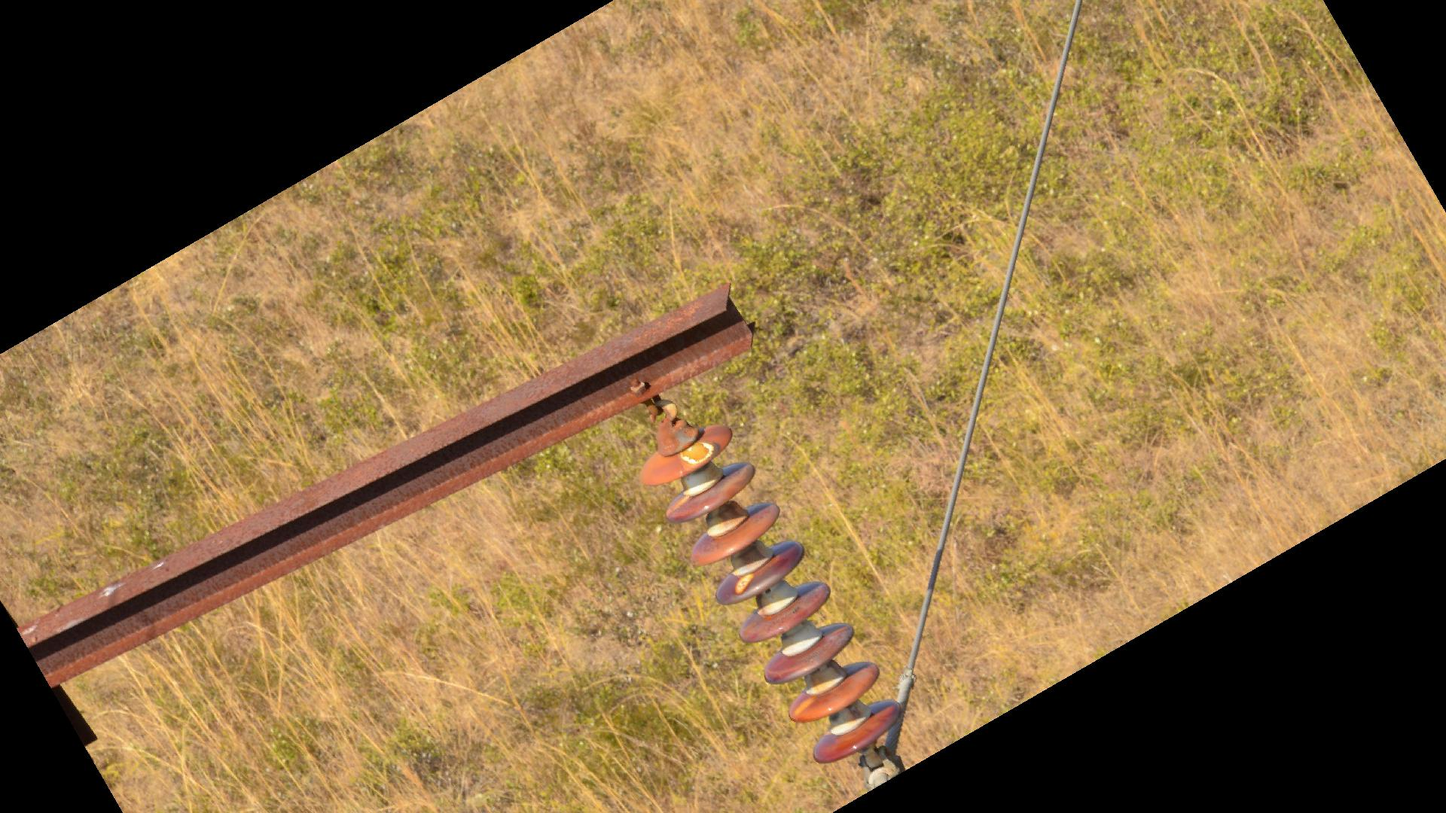insulator: (636, 419, 909, 768)
insulator_flashover: (679, 439, 715, 465), (791, 694, 819, 718), (664, 492, 690, 516), (732, 571, 756, 596)
